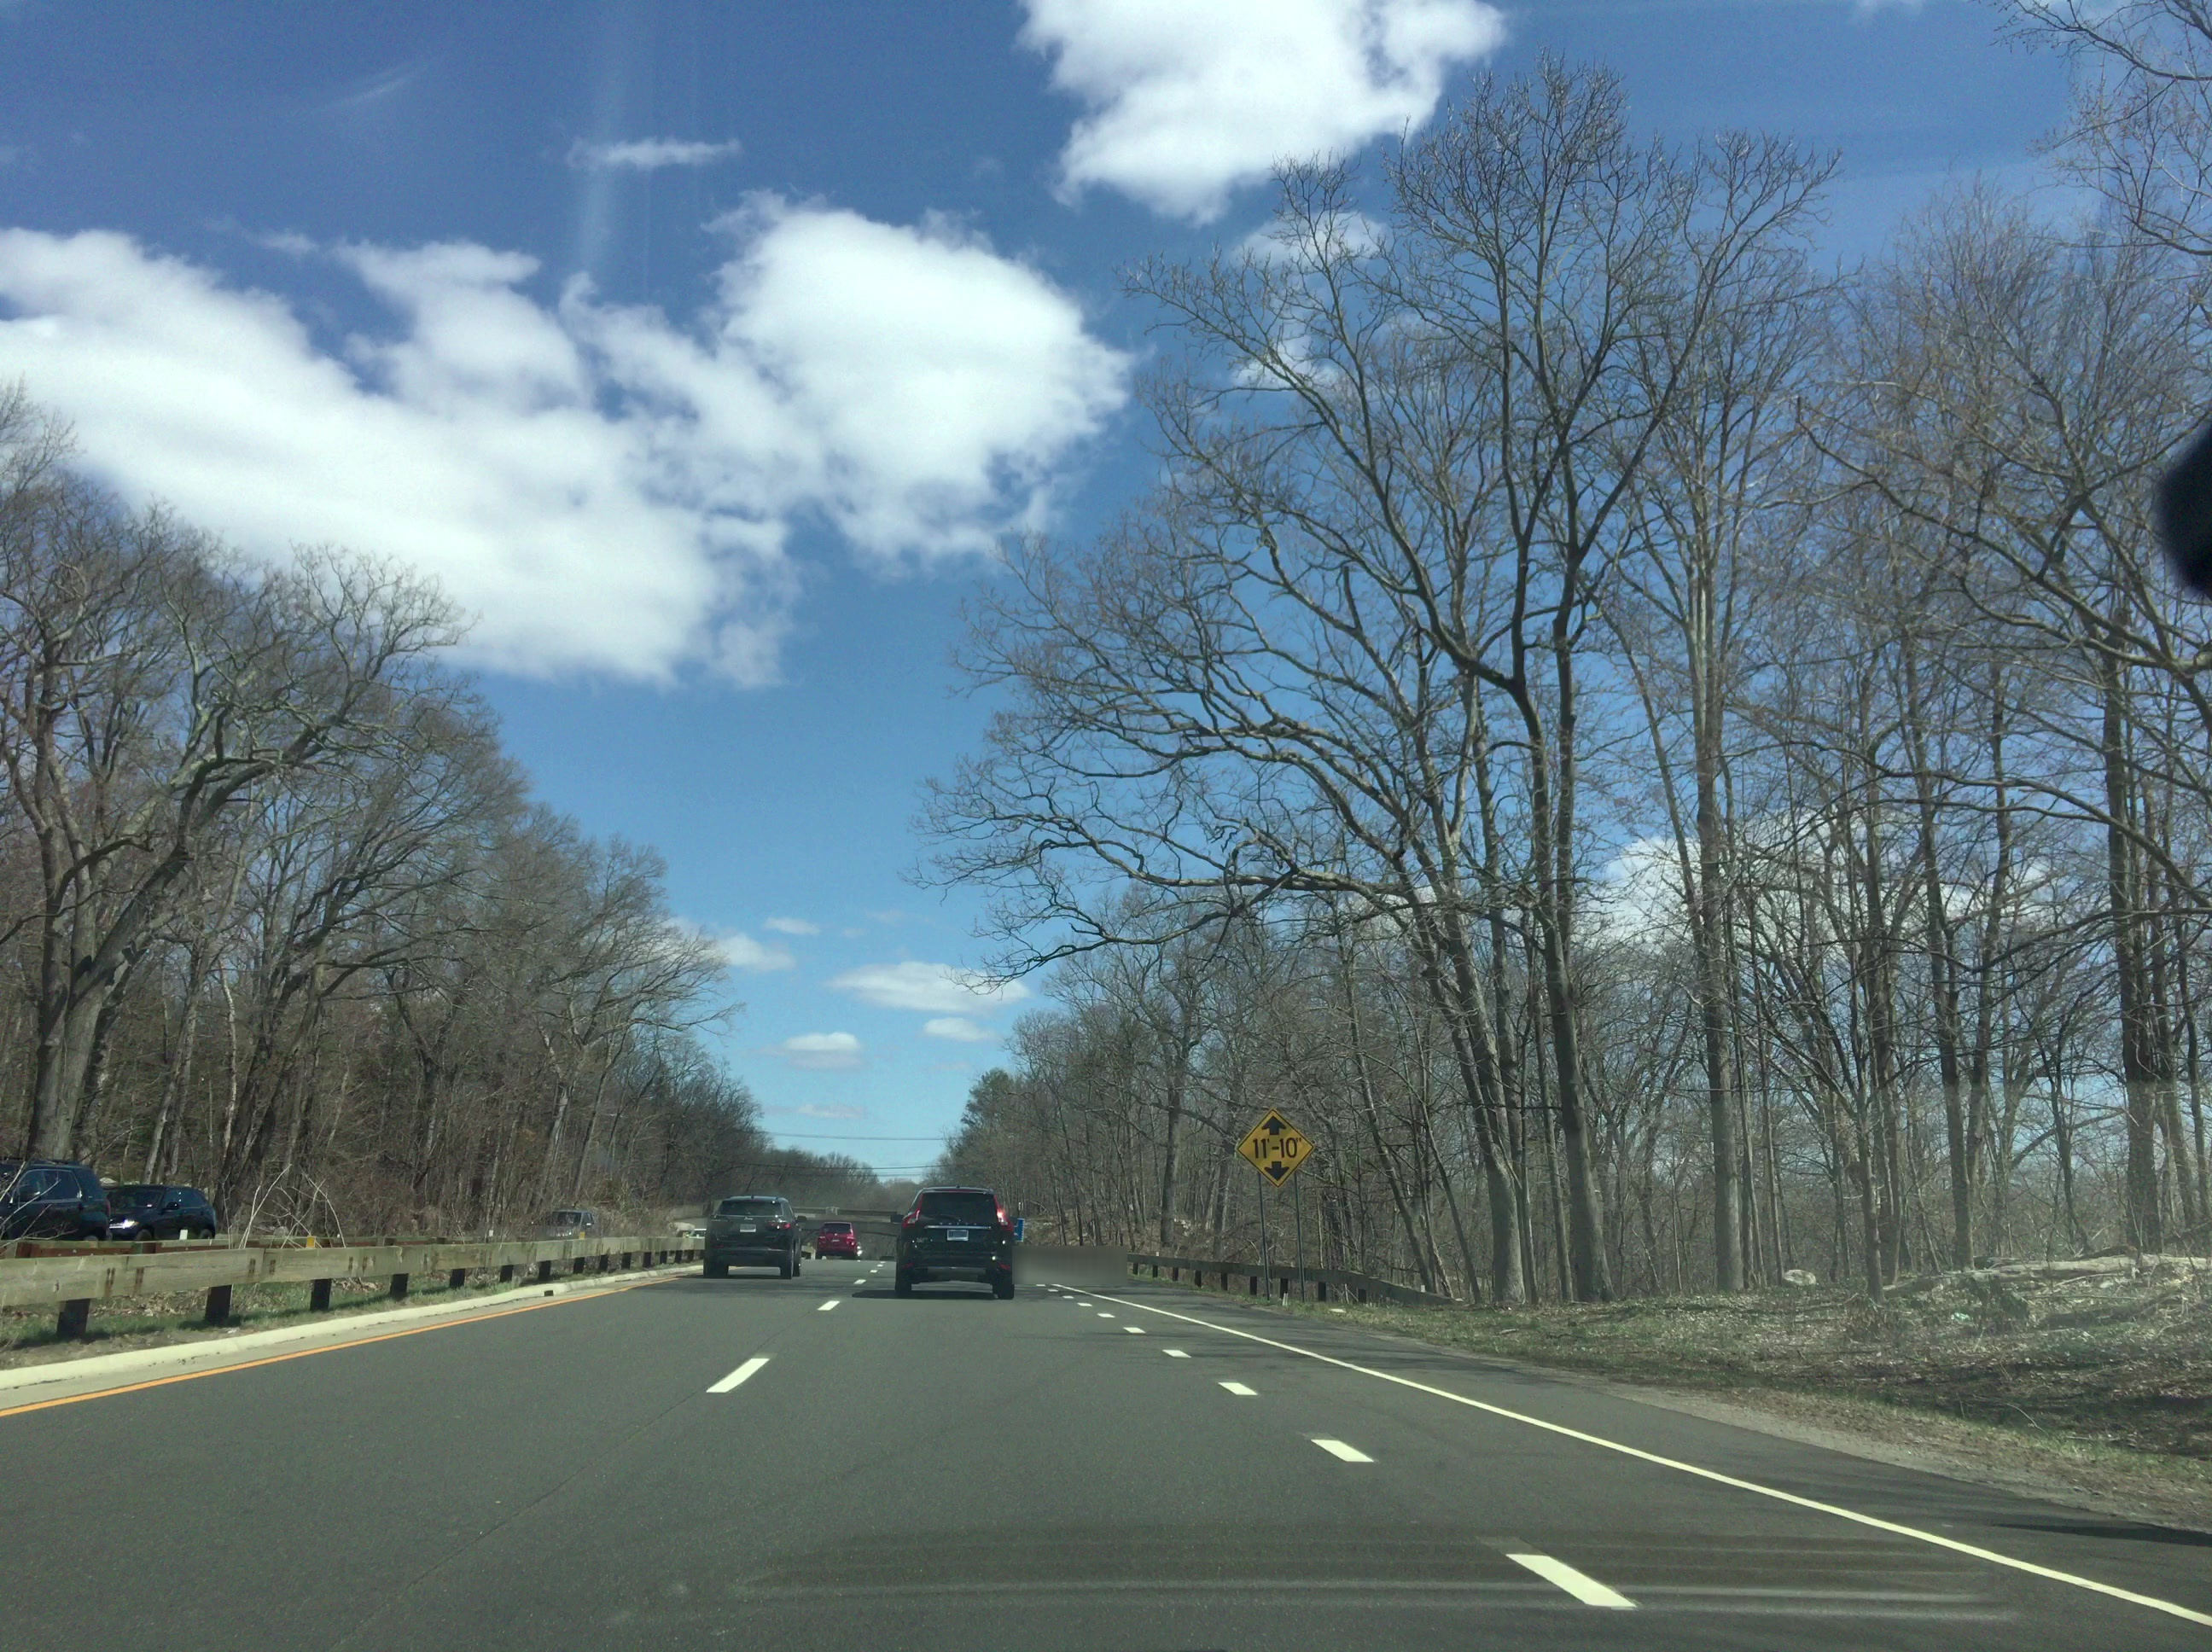low-clearance-sign: (1235, 1107, 1315, 1187)
